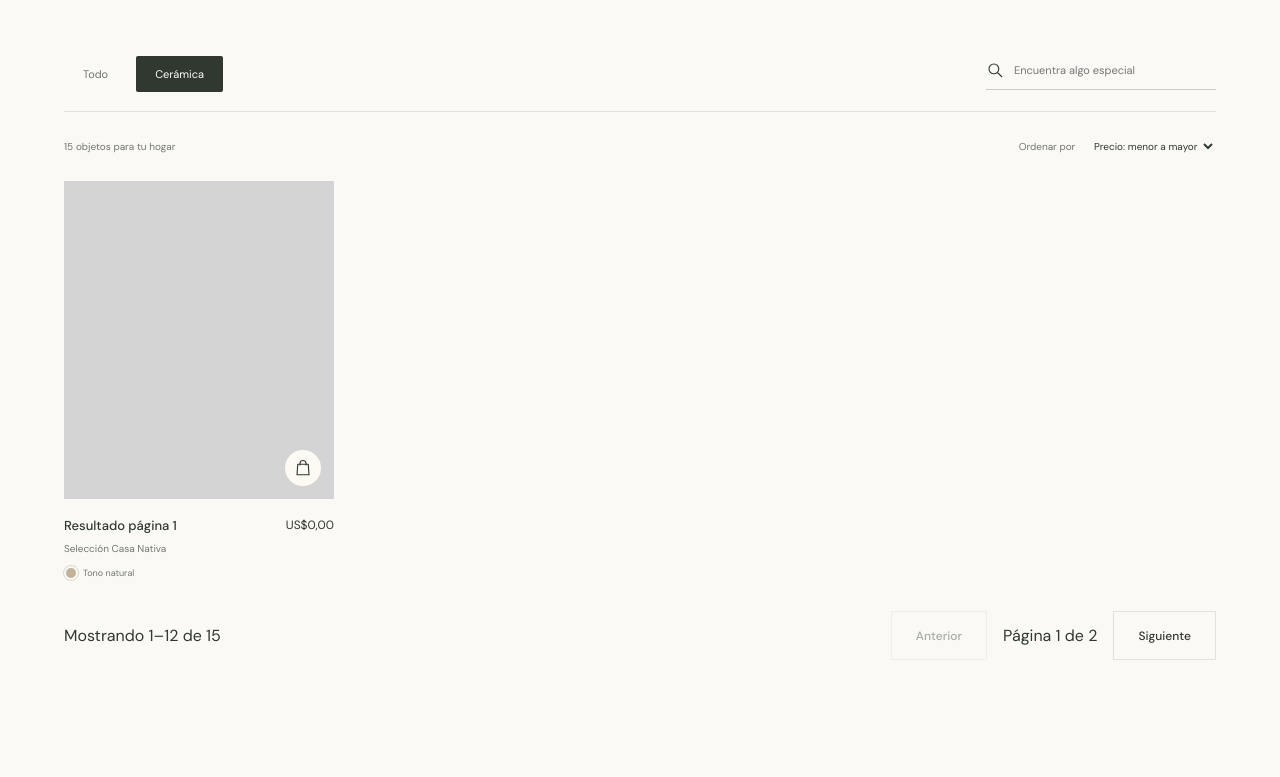
Test: requests pages from the API, preserves filters and resets page on search
The width and height of the screenshot is (1280, 777).
(page scrolled)
Expected: the heading "Resultado página 1" is shown, [64, 517, 177, 534]
Expected: the button "Anterior" is disabled, [891, 611, 987, 660]
Click the button "Siguiente" at (1165, 636), box [1113, 611, 1216, 660]
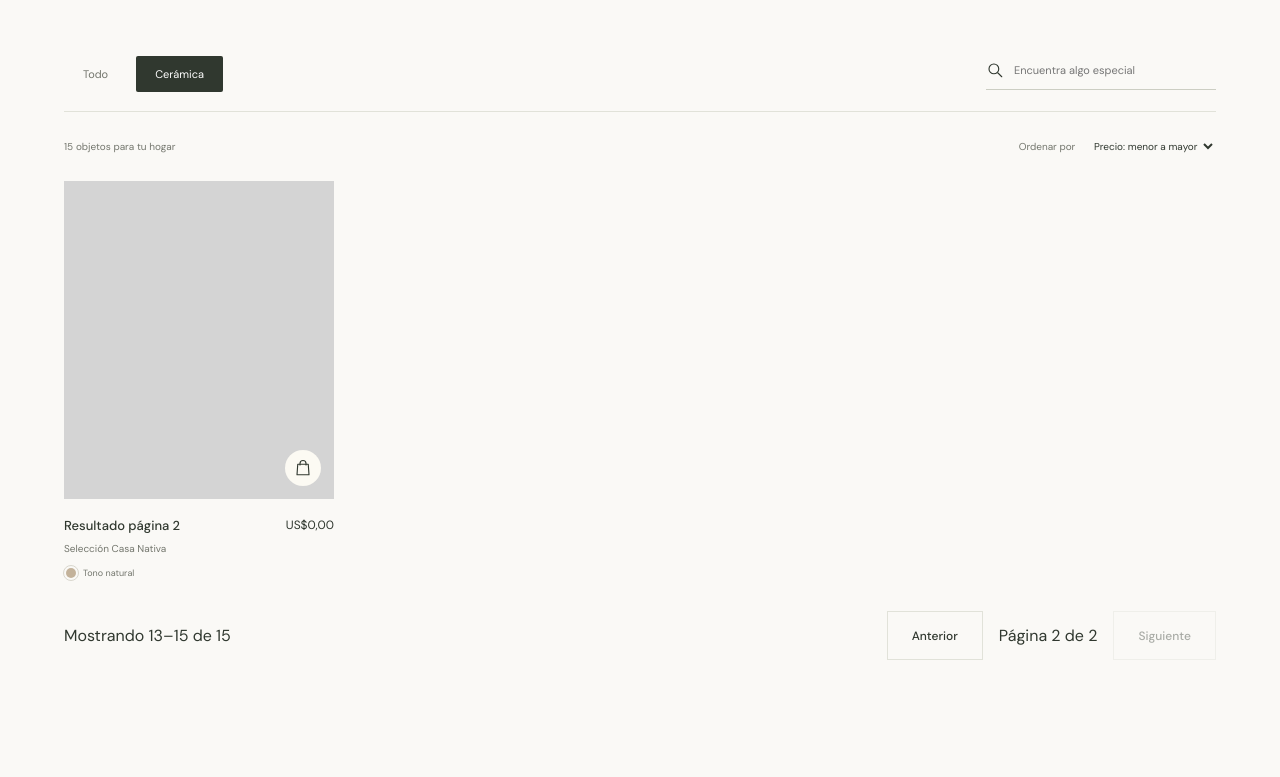
Expected: the heading "Resultado página 2" is shown, [64, 517, 180, 534]
Expected: the button "Siguiente" is disabled, [1113, 611, 1216, 660]
Type "taza" into the search field at (1115, 70), box [1014, 58, 1216, 82]
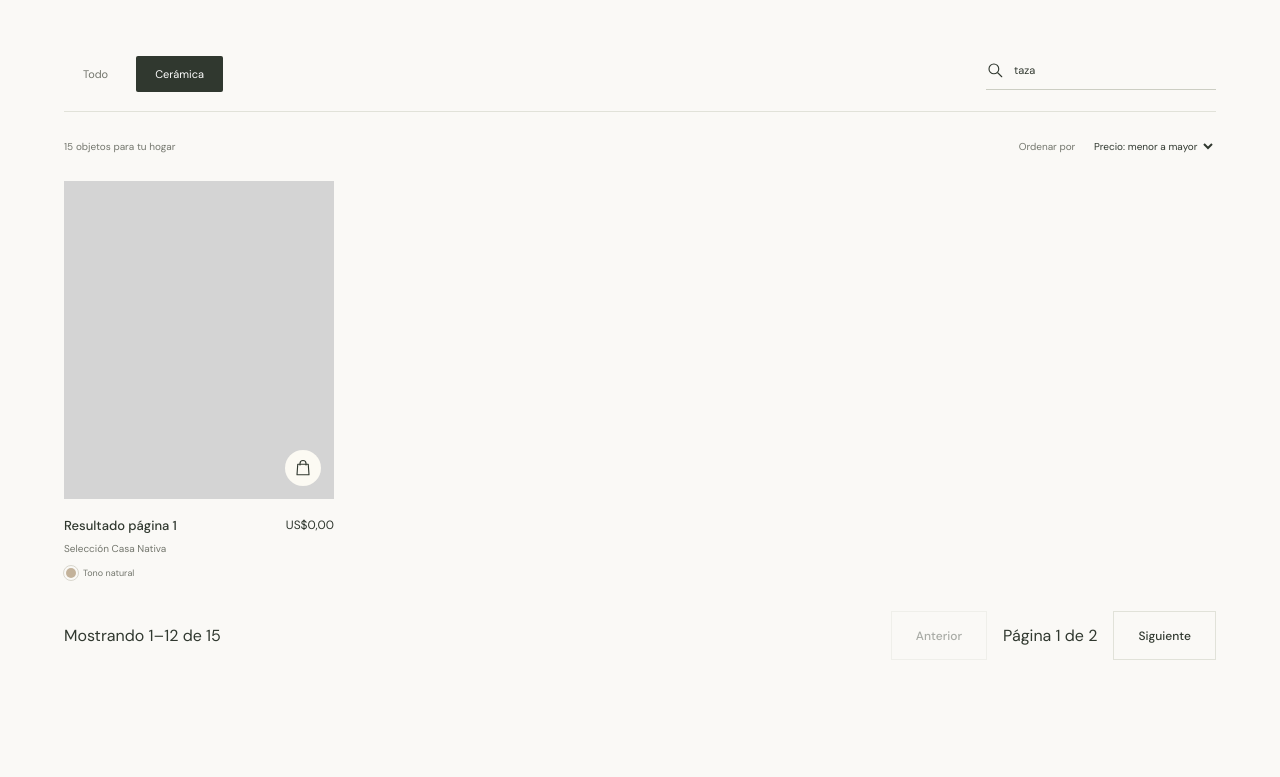
Expected: the heading "Resultado página 1" is shown, [64, 517, 177, 534]
